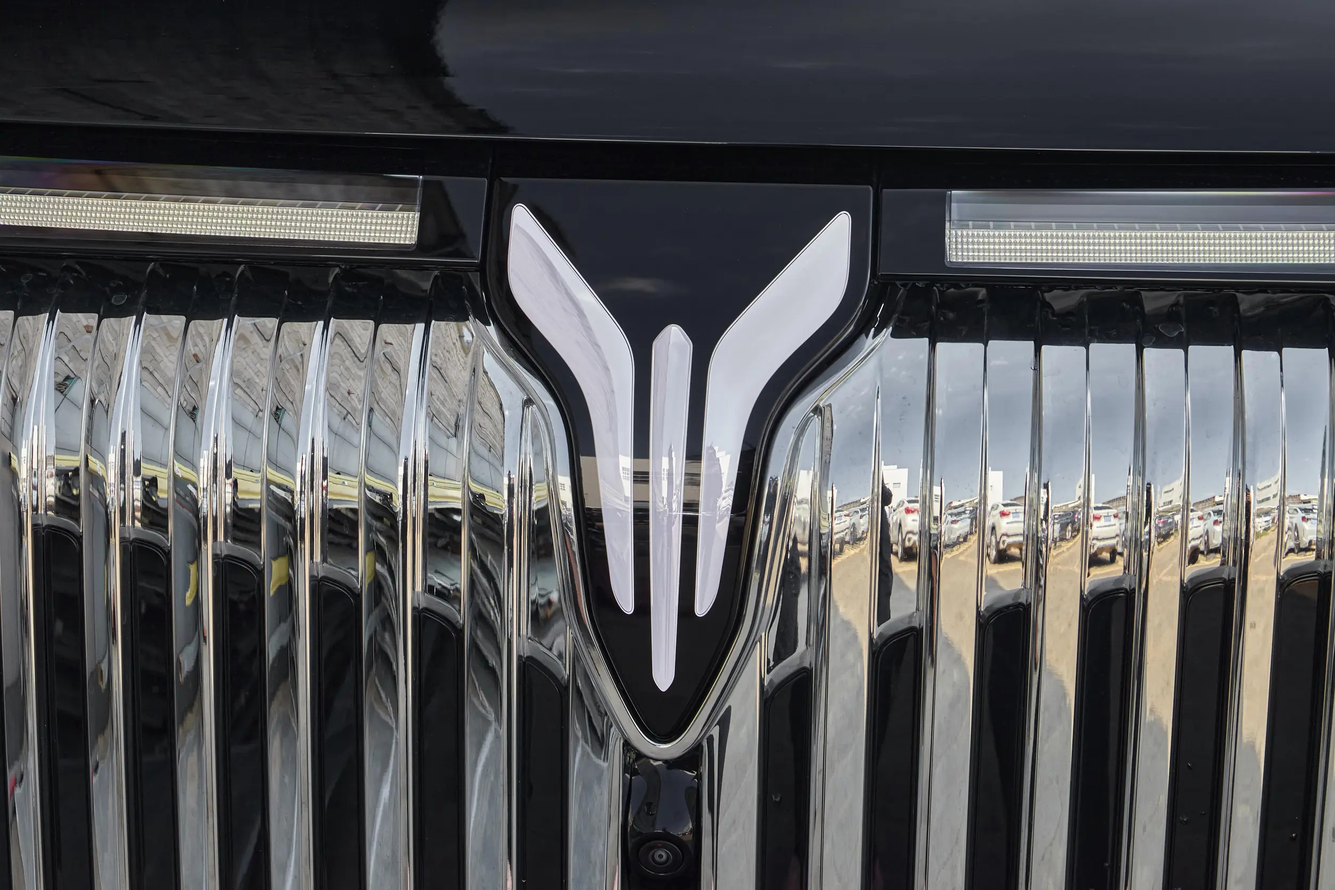VOYAH: (507, 204, 850, 693)
